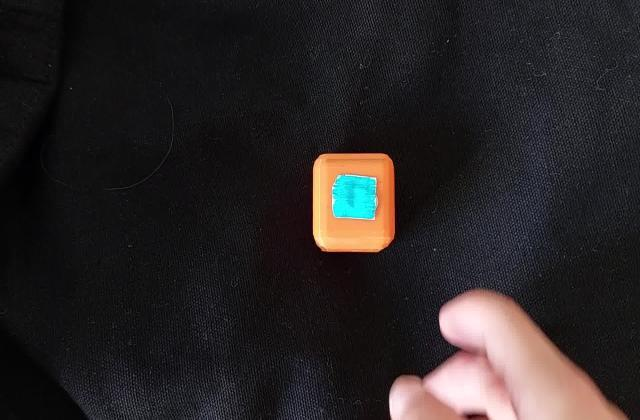blue: (340, 184, 372, 213)
sticker: (310, 148, 398, 258)
